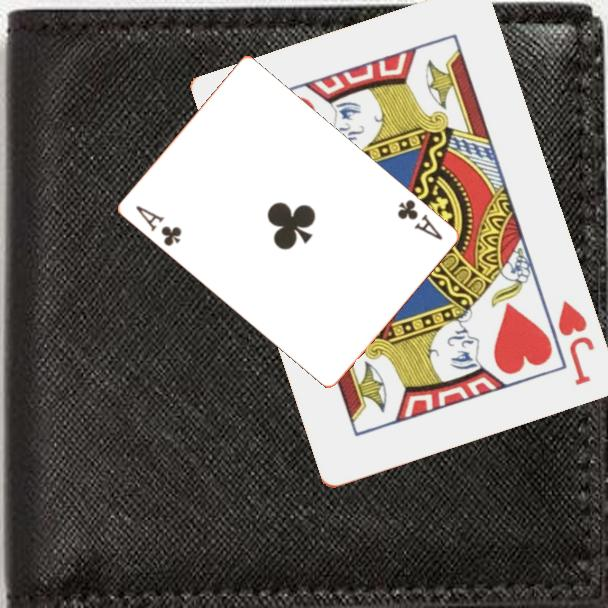c01: (131, 202, 184, 249), (393, 196, 445, 243)
h11: (555, 296, 599, 389)
